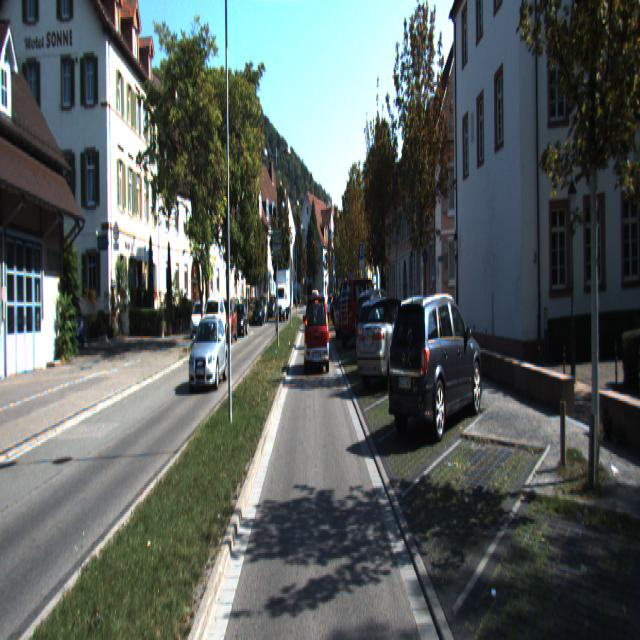Car: (386, 289, 484, 443), (355, 298, 423, 392), (355, 296, 410, 376), (354, 288, 401, 362), (337, 279, 381, 349), (188, 316, 228, 391), (305, 298, 330, 376), (334, 294, 369, 340), (200, 298, 228, 352), (218, 299, 239, 344), (65, 304, 85, 348), (275, 273, 291, 321), (190, 301, 207, 341), (252, 301, 265, 327)
